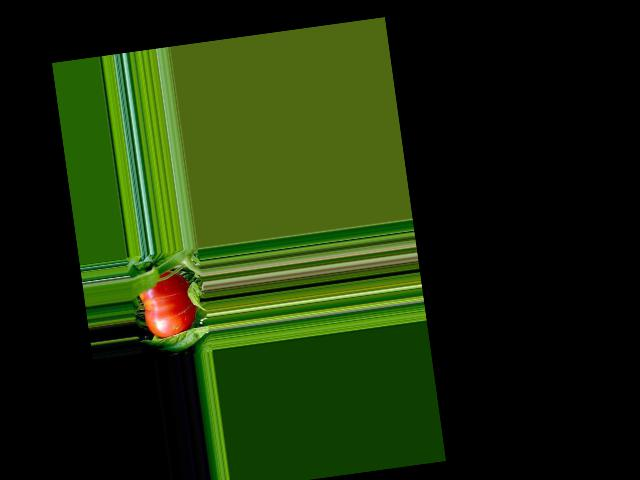tomato: (136, 267, 199, 340)
